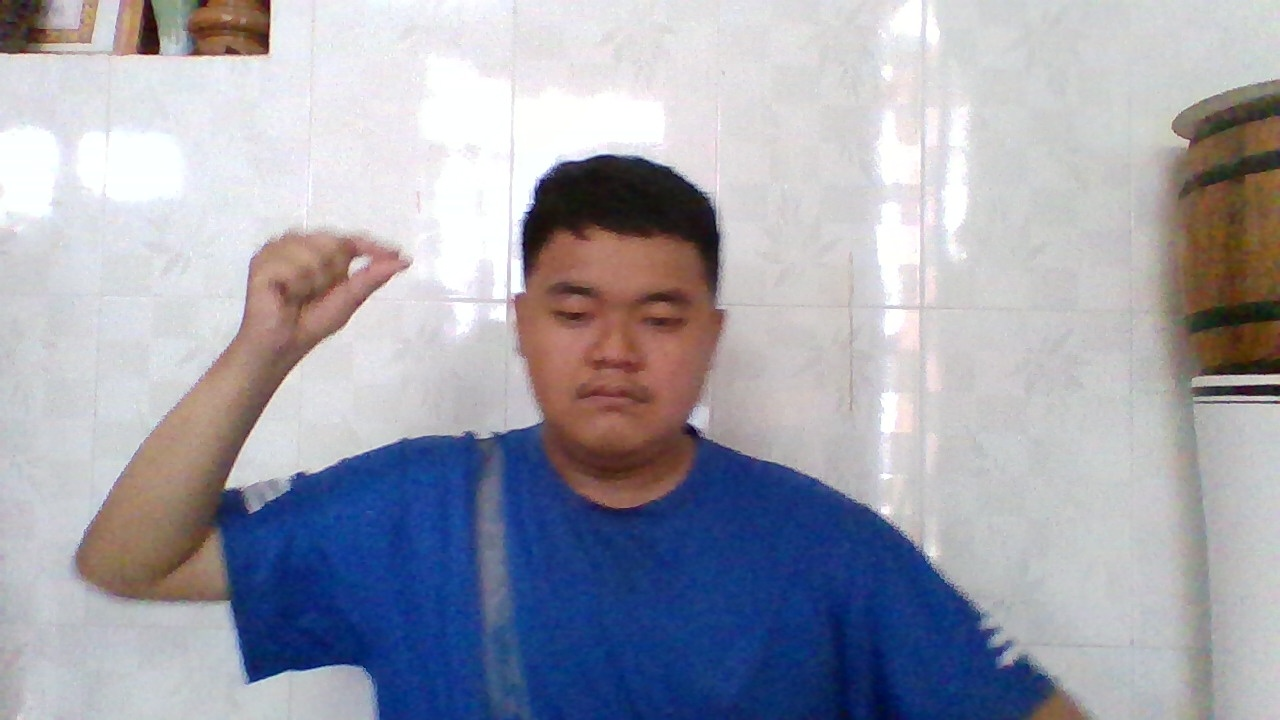S: (241, 225, 418, 374)
